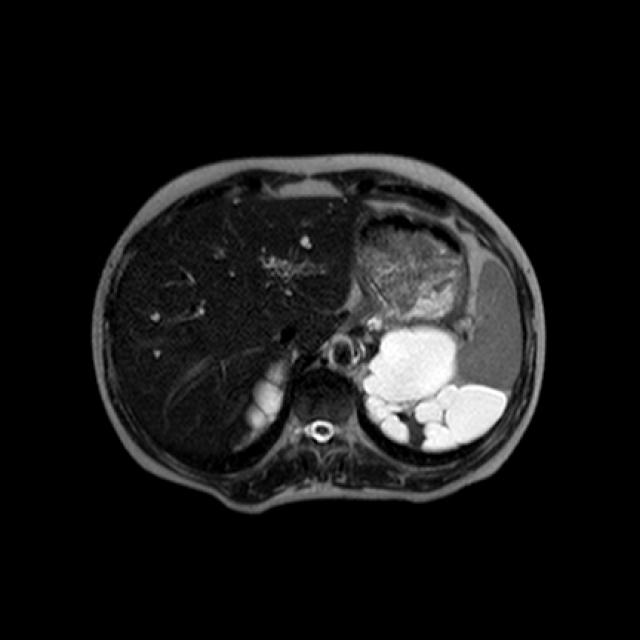sag: (244, 361, 284, 445)
sol: (364, 325, 507, 451)
